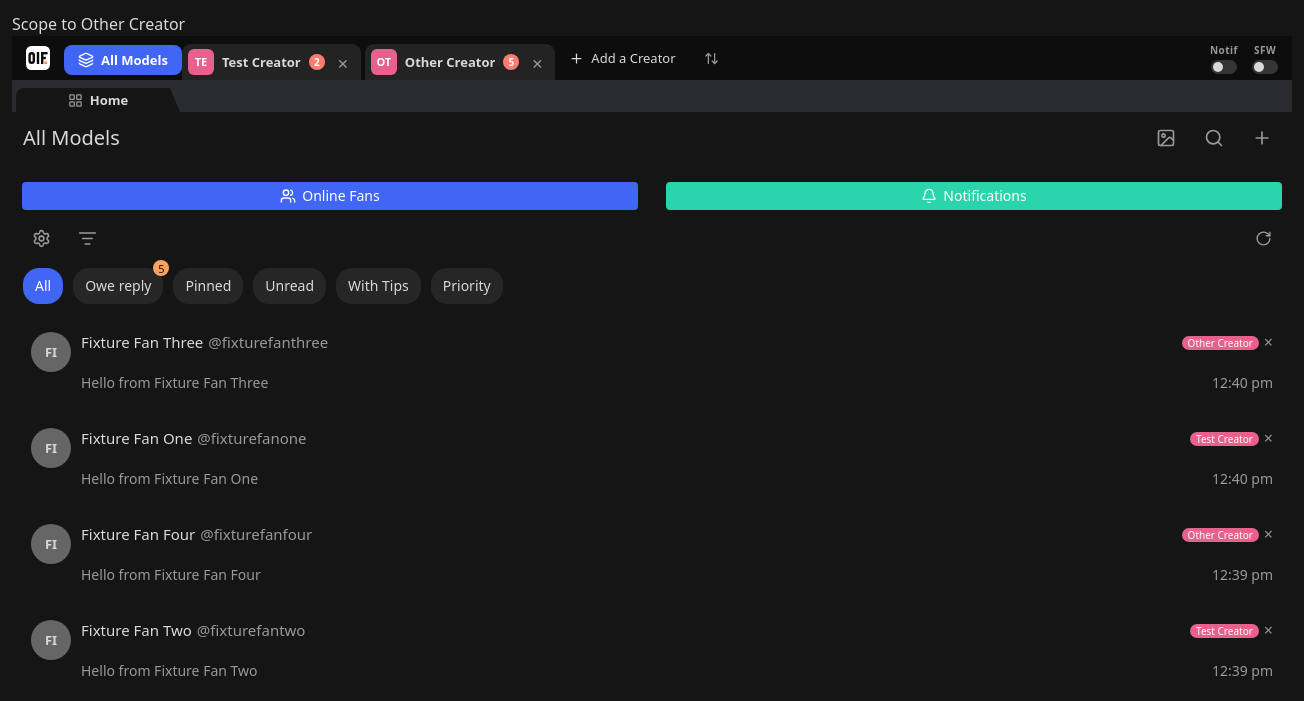
the Messages Pro page › All Models stays in the strip after a Creator tab is picked, and picking it scopes the page to every Creator and warms the others
expect the heading "All Models" is shown: met, box [23, 124, 120, 151]
Click the tab named "Test Creator 2 unread" at (256, 62), box [188, 44, 325, 80]
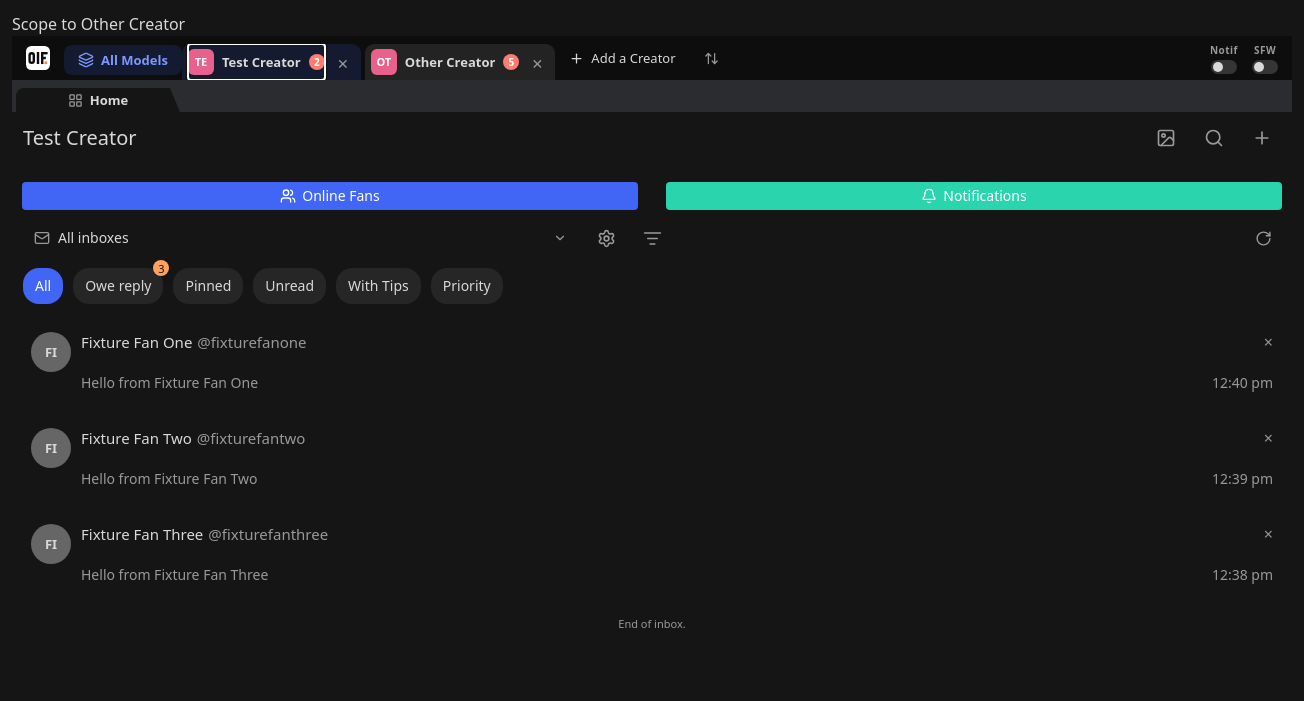
expect the heading "Test Creator" is shown: met, box [23, 124, 137, 151]
Click the button "All Models" at (123, 60), box [64, 45, 182, 75]
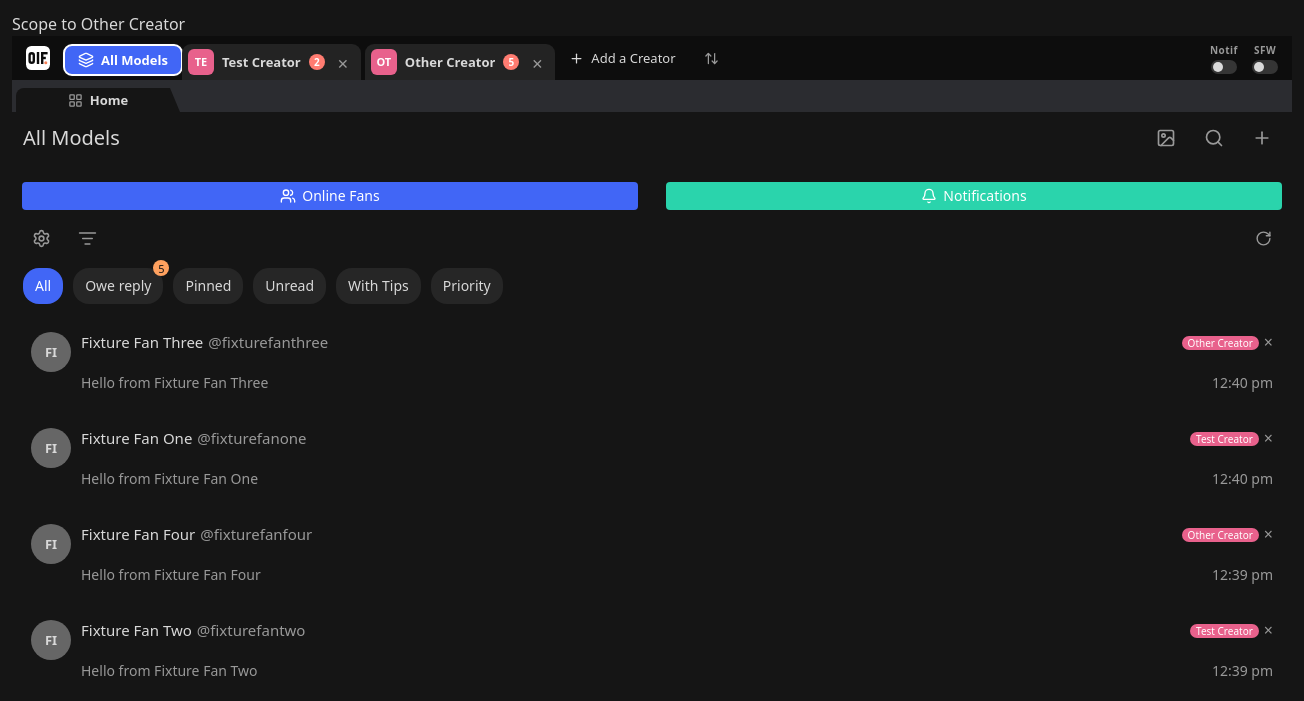
expect the heading "All Models" is shown: met, box [23, 124, 120, 151]
